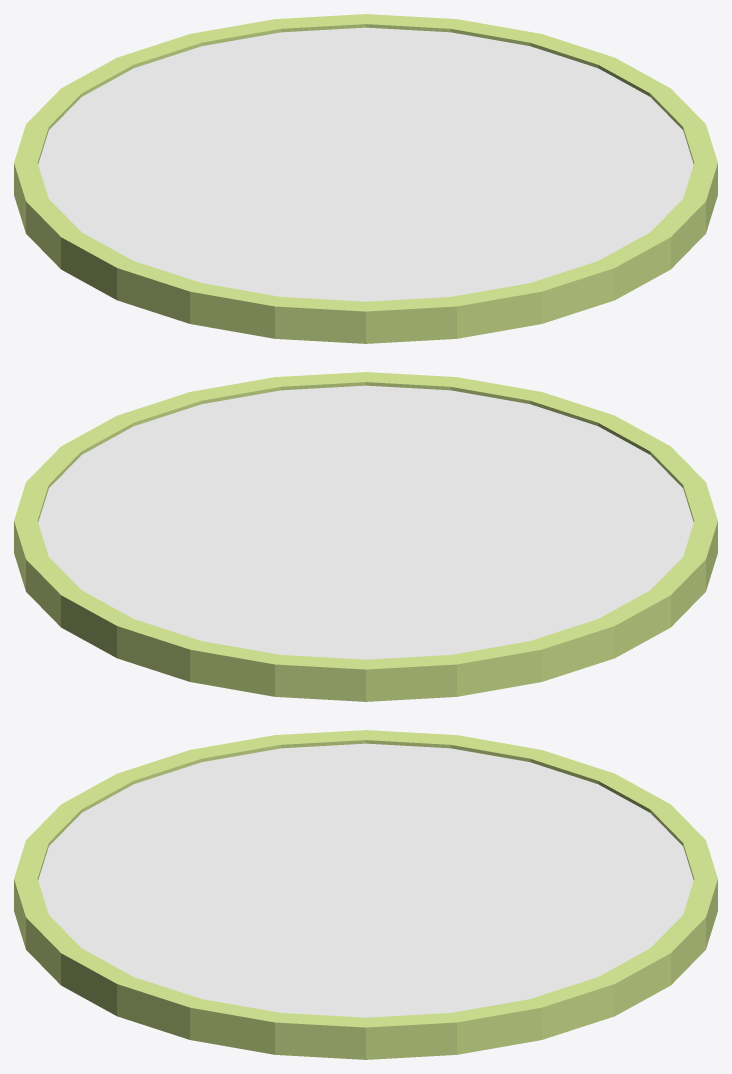
The model's file is san.fbx.
3 views of the same model, one above another, from view 1: azimuth 30°, elevation 25°; view 2: azimuth 150°, elevation 25°; view 3: azimuth 270°, elevation 25° (orthographic).
Visible parts, largest first — view 1: san; view 2: san; view 3: san.
Part boxes in pixels (left/top/right/bottom): san: left=14, top=14, right=717, bottom=343; san: left=14, top=372, right=717, bottom=701; san: left=14, top=730, right=717, bottom=1059.
Size of the model in its own units: 1866 by 94.7 by 1866.
